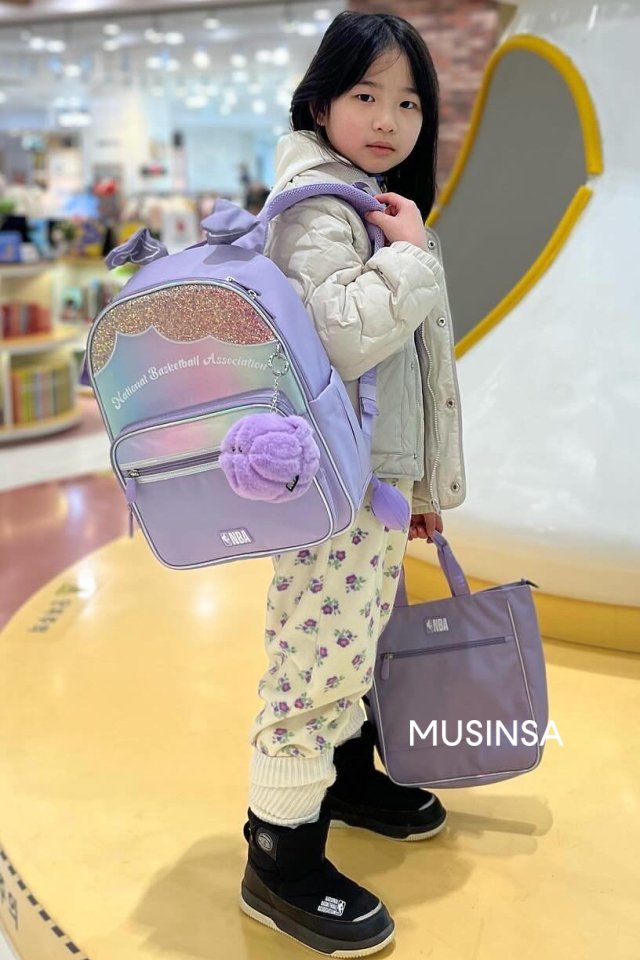Backpack: (81, 212, 379, 568)
Bag: (368, 599, 550, 792)
Outer: (272, 159, 471, 510)
Pants: (271, 473, 390, 831)
Shoes: (250, 739, 456, 943)
